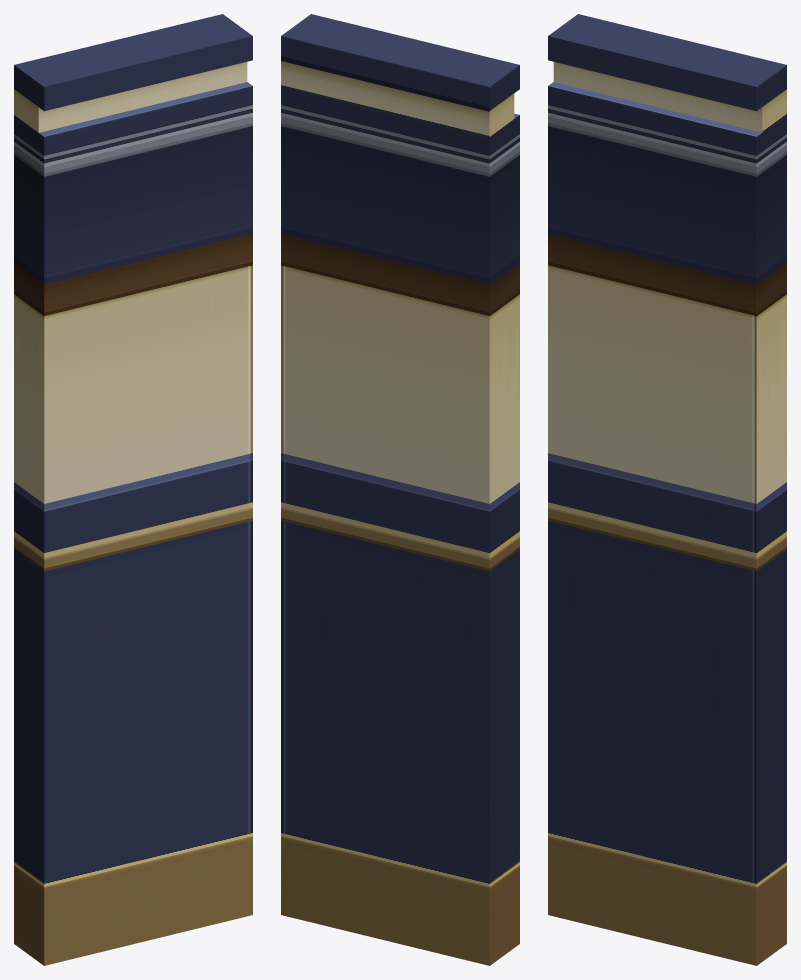
The model's file is my_highlander_01_wall_left.glb.
3 renders of one model, left to right at view 1: azimuth 30°, elevation 25°; view 2: azimuth 150°, elevation 25°; view 3: azimuth 330°, elevation 25°, orthographic.
Visible parts, largest first — view 1: my_highlander_01_wall_left; view 2: my_highlander_01_wall_left; view 3: my_highlander_01_wall_left.
Boxes of the visible parts, bbox=[...] form: my_highlander_01_wall_left: bbox=[14, 14, 252, 965]; my_highlander_01_wall_left: bbox=[281, 14, 519, 965]; my_highlander_01_wall_left: bbox=[548, 14, 786, 965].
Size of the model in its own units: 0.012 by 0.0483 by 0.003.
1 material, 1 textured.
